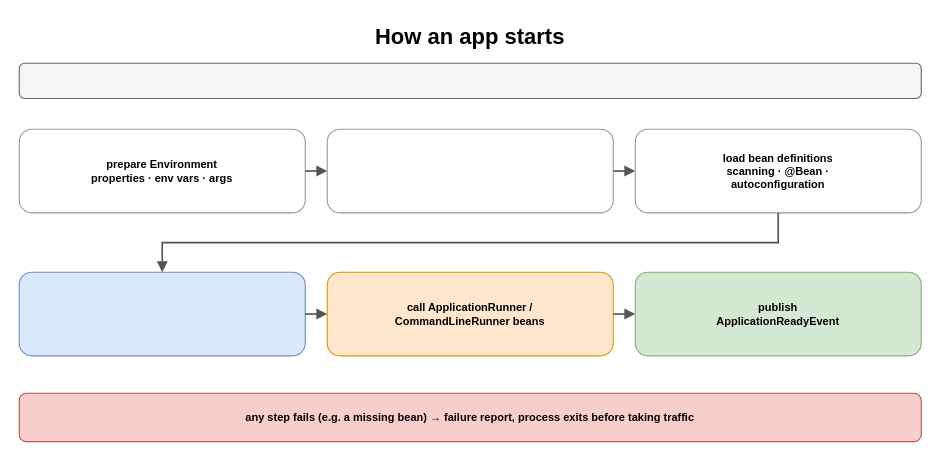
This 941x461 diagram has some shape labels left out. The shapes that lost their labels are listed below. From the top down, each one's centre as x and y in pixels, then its label:
(x=469, y=80): SpringApplication.run works through a fixed sequence
(x=469, y=170): create ApplicationContext
(x=161, y=313): refresh: create singletons · inject · init · start web server
